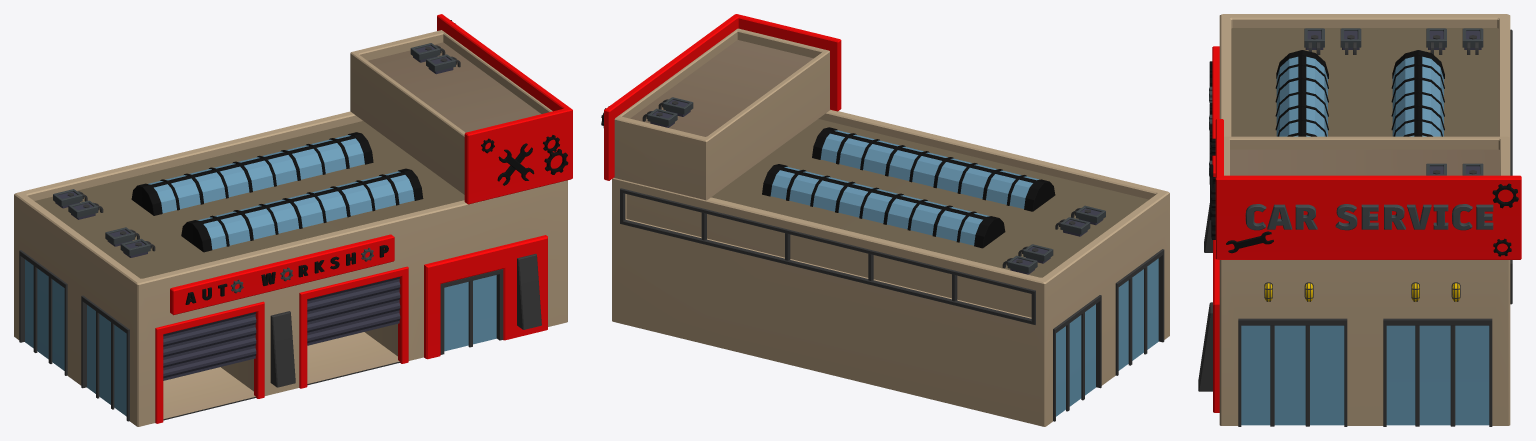
File: Workshop.fbx
The picture shows the model from 3 angles, left to right: view 1: azimuth 30°, elevation 25°; view 2: azimuth 150°, elevation 25°; view 3: azimuth 270°, elevation 25°; orthographic projection. The views are drawn at different scales.
Visible parts, largest first — view 1: Workshop; view 2: Workshop; view 3: Workshop.
Boxes of the visible parts, x1,y1,x2,y2 form: Workshop: [14, 14, 572, 426]; Workshop: [601, 14, 1169, 426]; Workshop: [1198, 14, 1521, 426].
Size of the model in its own units: 2477 by 1147 by 1351.
1 material, 1 textured.
